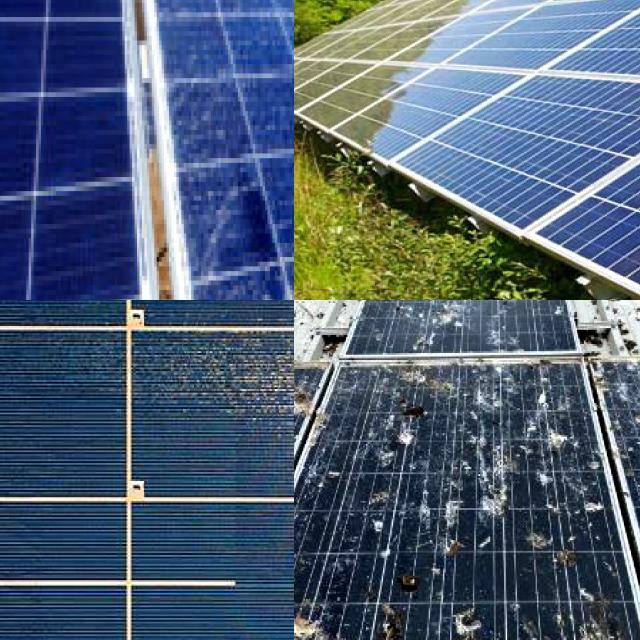bird: (361, 388, 441, 456), (528, 394, 588, 442), (294, 371, 335, 440), (473, 469, 517, 532), (522, 524, 575, 572), (385, 536, 425, 598), (294, 461, 319, 527), (453, 607, 499, 640), (570, 491, 610, 528), (532, 626, 633, 640), (294, 598, 327, 640), (363, 610, 409, 640), (294, 606, 326, 640)
crack: (317, 52, 640, 272), (464, 0, 640, 300), (475, 0, 640, 77)
shadow: (54, 321, 294, 426)
